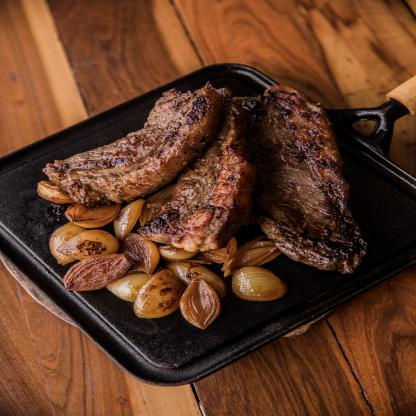Carne: (247, 83, 370, 273), (39, 80, 222, 203), (139, 101, 246, 250)
